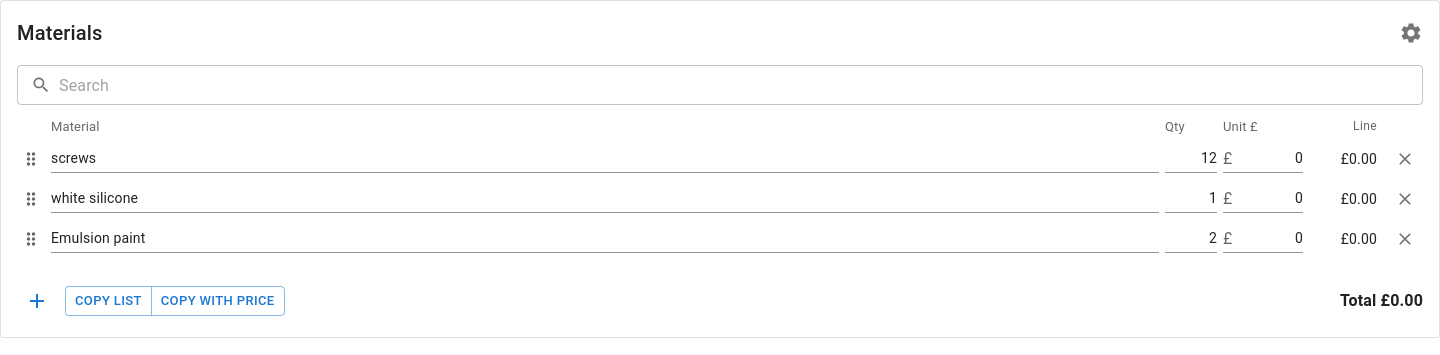
Scenario: searching materials › says when nothing matches
The image size is (1440, 355).
Type "zzzz" into the field named "Search materials".
click(741, 85); type("zzzz")  # box [59,65,1423,105]
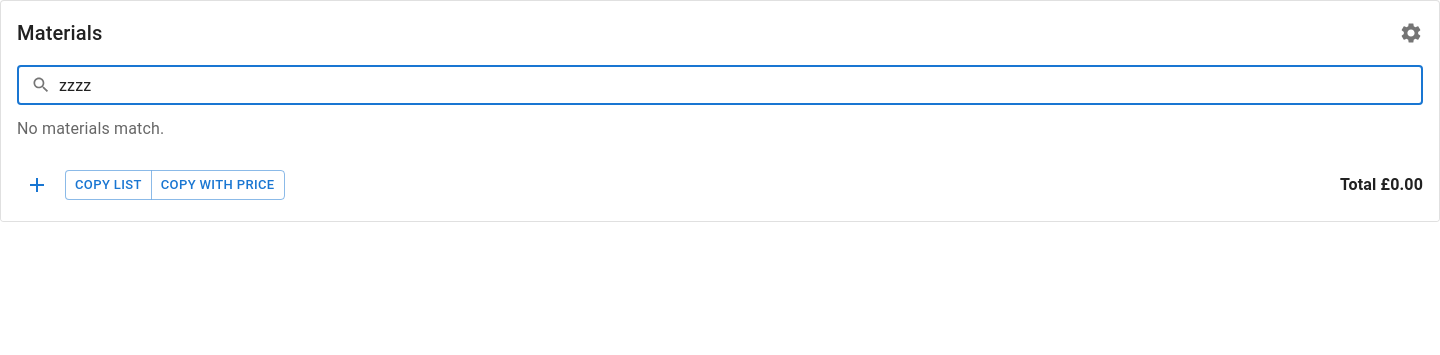
Expected: the field showing "screws" is not shown
Expected: the text "No materials match." is shown, [17,119,164,138]
